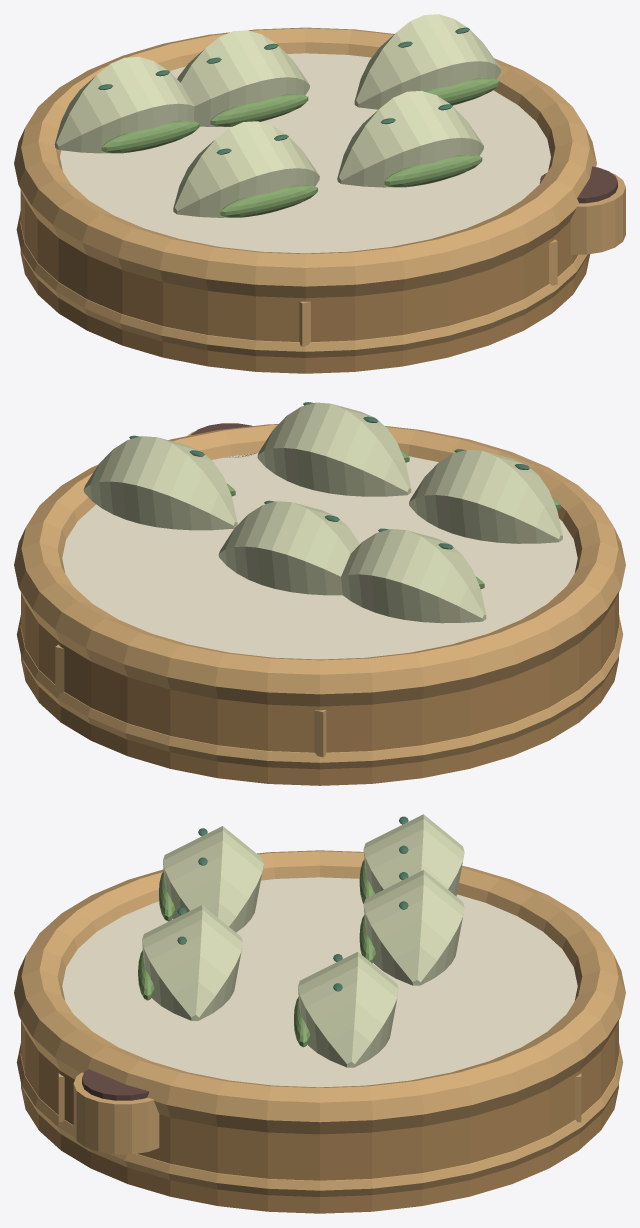
Rendered from seaweed_dumpling.glb.
3 views of the same model, one above another, from view 1: azimuth 30°, elevation 25°; view 2: azimuth 150°, elevation 25°; view 3: azimuth 270°, elevation 25° (orthographic). The views are drawn at different scales.
Visible parts, largest first — view 1: steamer_upper_rim, steamer_parchment_disc, steamer_woven_base, steamer_lower_band, hand_folded_crescent_0, hand_folded_crescent_1, hand_folded_crescent_4, hand_folded_crescent_2, hand_folded_crescent_3, vinegar_dip_cup, dumpling_filling_hint_0, dumpling_filling_hint_1 (+5 smaller); view 2: steamer_parchment_disc, steamer_upper_rim, steamer_woven_base, hand_folded_crescent_2, hand_folded_crescent_1, hand_folded_crescent_0, steamer_lower_band, hand_folded_crescent_4, hand_folded_crescent_3, woven_vertical_slats_2; view 3: steamer_parchment_disc, steamer_upper_rim, steamer_woven_base, steamer_lower_band, hand_folded_crescent_1, hand_folded_crescent_2, hand_folded_crescent_3, hand_folded_crescent_0, hand_folded_crescent_4, vinegar_dip_cup, vinegar_dip_surface.
Boxes of the visible parts, bbox=[...] form: steamer_upper_rim: bbox=[14, 27, 596, 298]; steamer_parchment_disc: bbox=[60, 53, 550, 253]; steamer_woven_base: bbox=[20, 190, 590, 373]; steamer_lower_band: bbox=[16, 211, 588, 357]; hand_folded_crescent_0: bbox=[173, 121, 319, 217]; hand_folded_crescent_1: bbox=[337, 91, 483, 187]; hand_folded_crescent_4: bbox=[54, 56, 194, 153]; hand_folded_crescent_2: bbox=[354, 14, 500, 109]; hand_folded_crescent_3: bbox=[177, 30, 309, 126]; vinegar_dip_cup: bbox=[569, 173, 625, 254]; dumpling_filling_hint_0: bbox=[220, 185, 317, 217]; dumpling_filling_hint_1: bbox=[384, 155, 482, 187]; steamer_parchment_disc: bbox=[62, 453, 577, 659]; steamer_upper_rim: bbox=[14, 424, 625, 706]; steamer_woven_base: bbox=[21, 593, 618, 785]; hand_folded_crescent_2: bbox=[83, 436, 237, 530]; hand_folded_crescent_1: bbox=[257, 402, 411, 496]; hand_folded_crescent_0: bbox=[409, 449, 562, 543]; steamer_lower_band: bbox=[16, 615, 623, 769]; hand_folded_crescent_4: bbox=[341, 529, 486, 623]; hand_folded_crescent_3: bbox=[218, 501, 359, 595]; woven_vertical_slats_2: bbox=[314, 710, 326, 757]; steamer_parchment_disc: bbox=[62, 877, 577, 1087]; steamer_upper_rim: bbox=[14, 850, 625, 1134]; steamer_woven_base: bbox=[21, 1021, 618, 1213]; steamer_lower_band: bbox=[16, 1043, 623, 1196]; hand_folded_crescent_1: bbox=[142, 905, 242, 1020]; hand_folded_crescent_2: bbox=[298, 952, 398, 1067]; hand_folded_crescent_3: bbox=[363, 870, 464, 985]; hand_folded_crescent_0: bbox=[163, 826, 263, 932]; hand_folded_crescent_4: bbox=[363, 814, 464, 896]; vinegar_dip_cup: bbox=[73, 1072, 159, 1154]; vinegar_dip_surface: bbox=[82, 1069, 149, 1100].
Size of the model in its own units: 0.884 by 0.3205 by 0.884.
